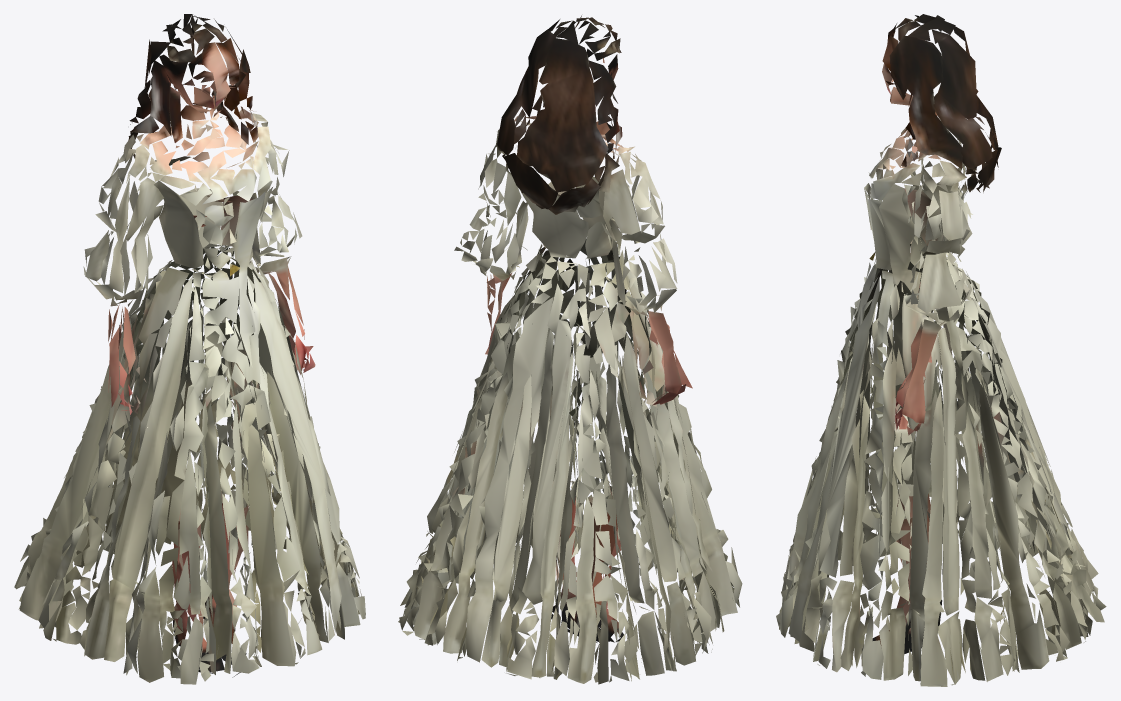
The model's file is char_adult_f_elegant.glb.
3 renders of one model, left to right at view 1: azimuth 30°, elevation 25°; view 2: azimuth 150°, elevation 25°; view 3: azimuth 270°, elevation 25°, orthographic.
Visible parts, largest first — view 1: geometry_0; view 2: geometry_0; view 3: geometry_0.
Boxes of the visible parts, x1,y1,x2,y2 form: geometry_0: (14,14,365,684); geometry_0: (398,15,742,684); geometry_0: (776,14,1106,686).
Bounding box in the file's own units: 1.5 × 3.06 × 1.45.
Materials: 1 (1 with a texture image).
